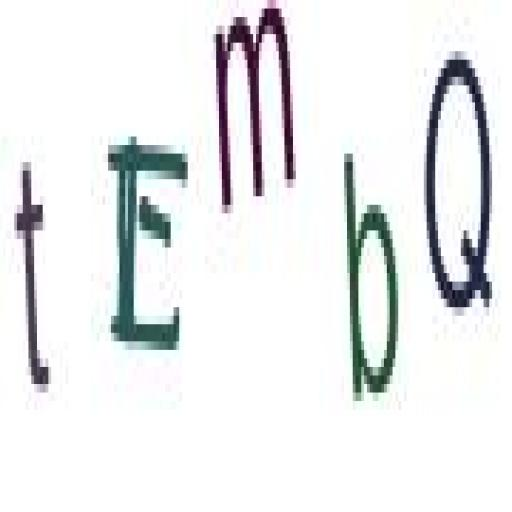E: (102, 116, 195, 368)
Q: (419, 34, 499, 344)
b: (338, 130, 406, 430)
m: (207, 8, 305, 220)
t: (12, 151, 60, 404)
